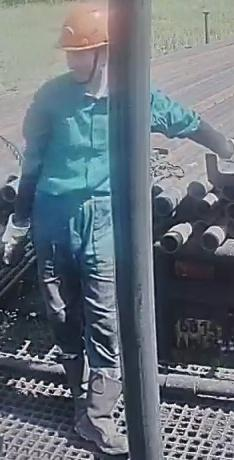gloves: (0, 208, 34, 270), (212, 130, 234, 165)
helmet: (52, 6, 109, 52)
vest: (21, 71, 131, 214)
